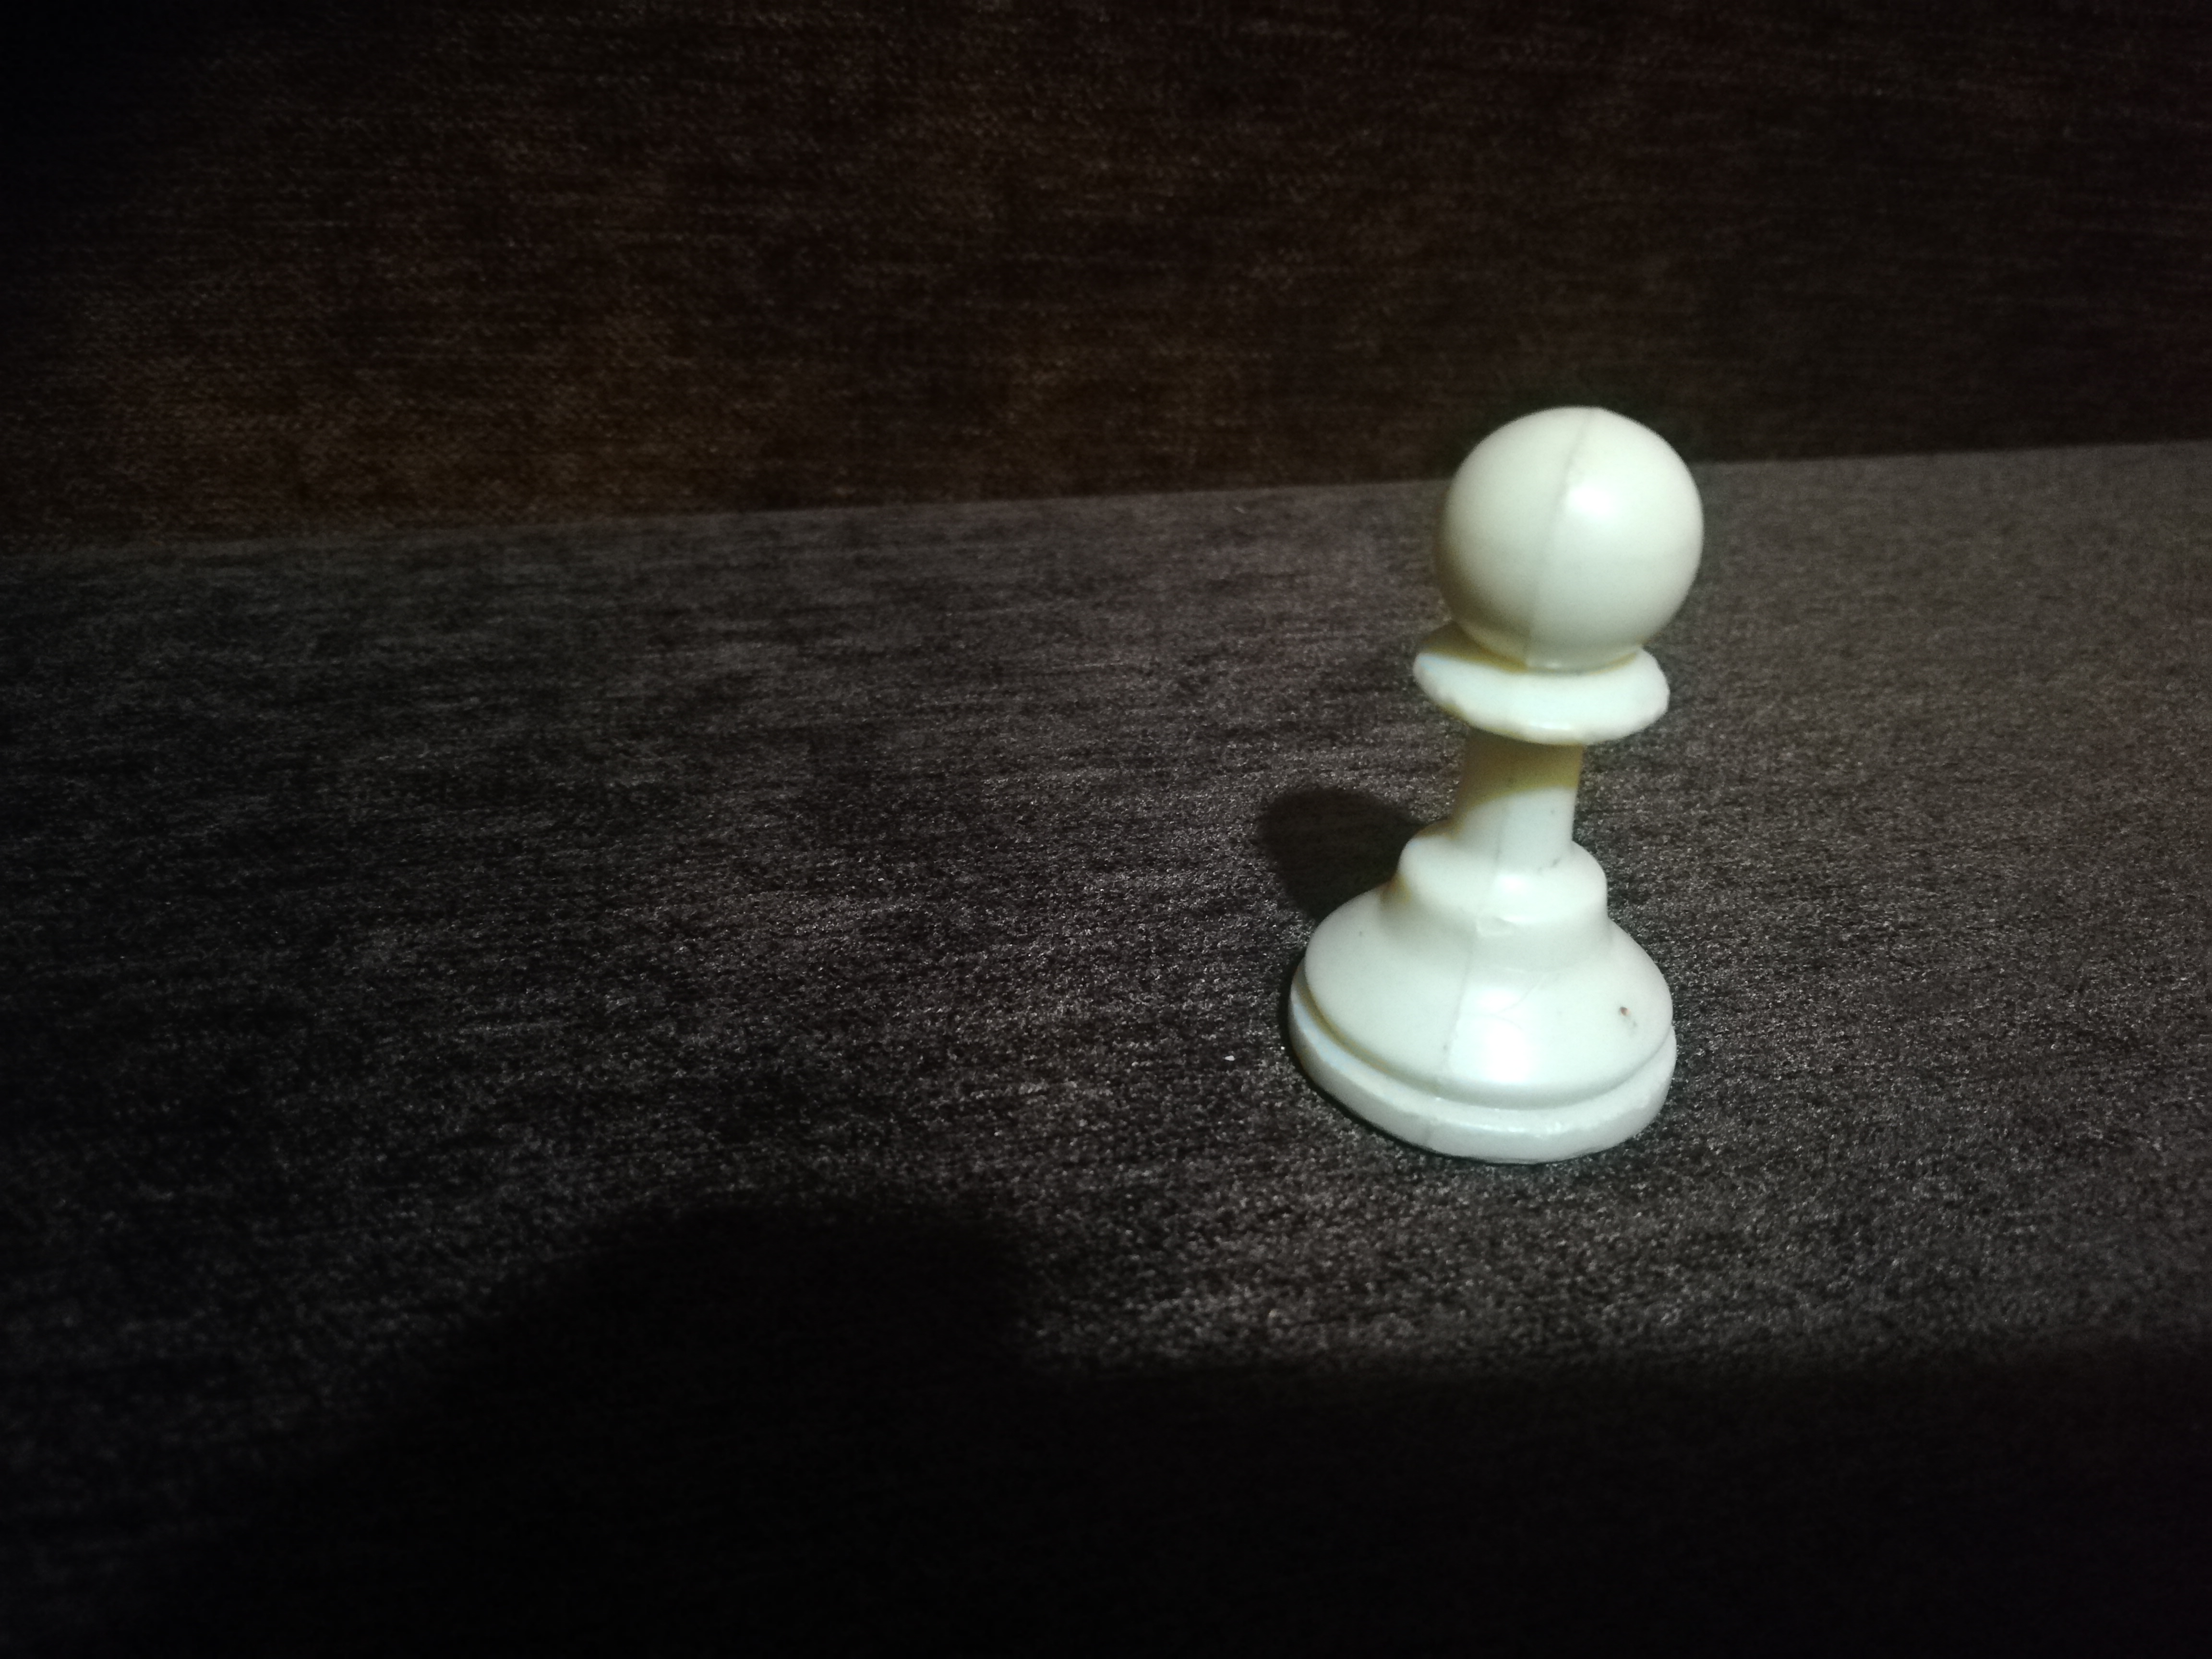Pawn: (1290, 376, 1717, 1164)
